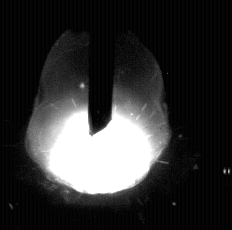arame: (89, 0, 114, 136)
poca: (25, 0, 169, 230)
